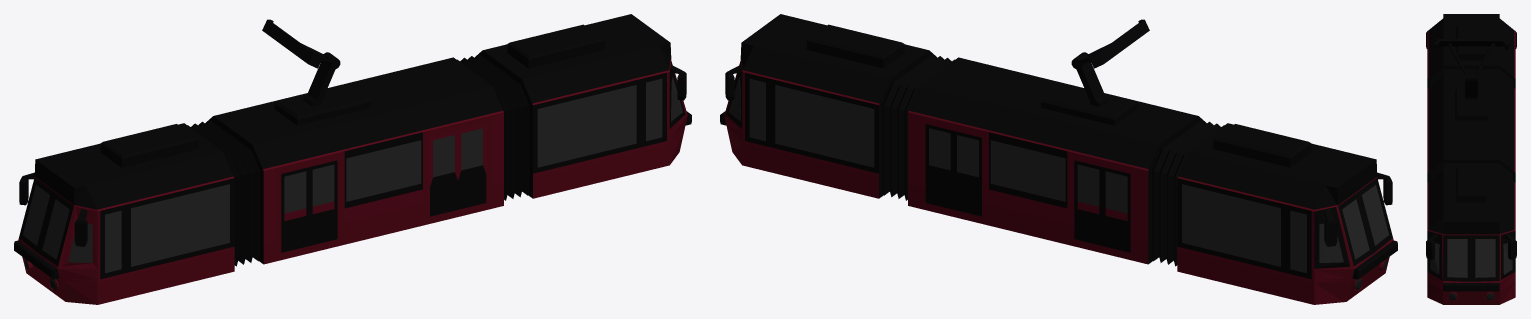
The model's file is light-rail.glb.
3 views of the same model, side by side, from view 1: azimuth 30°, elevation 25°; view 2: azimuth 150°, elevation 25°; view 3: azimuth 270°, elevation 25° (orthographic). The views are drawn at different scales.
Parts seen in each view (by area): view 1: Tram; view 2: Tram; view 3: Tram.
Boxes of the visible parts, left/top/right/bottom form: Tram: left=14, top=14, right=691, bottom=304; Tram: left=720, top=14, right=1397, bottom=304; Tram: left=1426, top=14, right=1516, bottom=304.
Bounding box in the file's own units: 11.19 × 3.2 × 1.93.
Materials: 1 (1 with a texture image).
